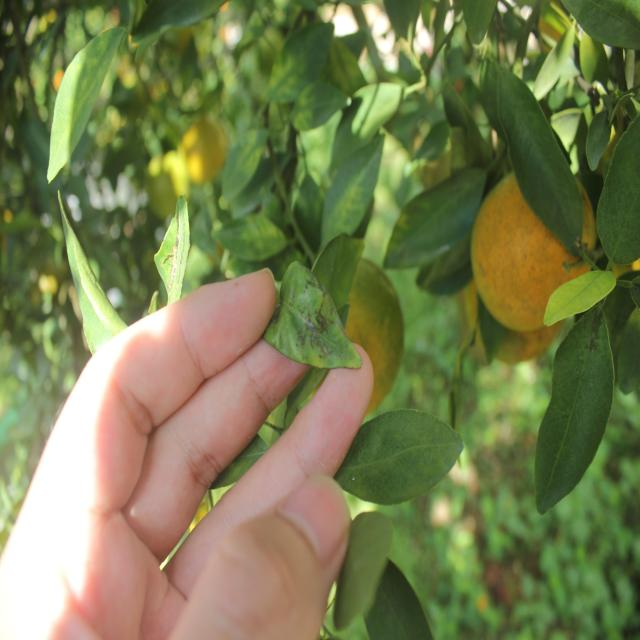canker: (284, 281, 343, 364), (156, 210, 190, 299)
